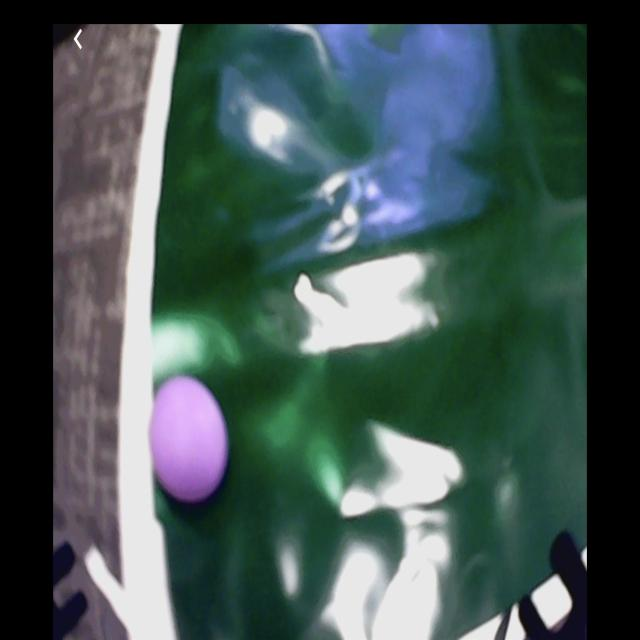ball: (150, 376, 228, 502)
